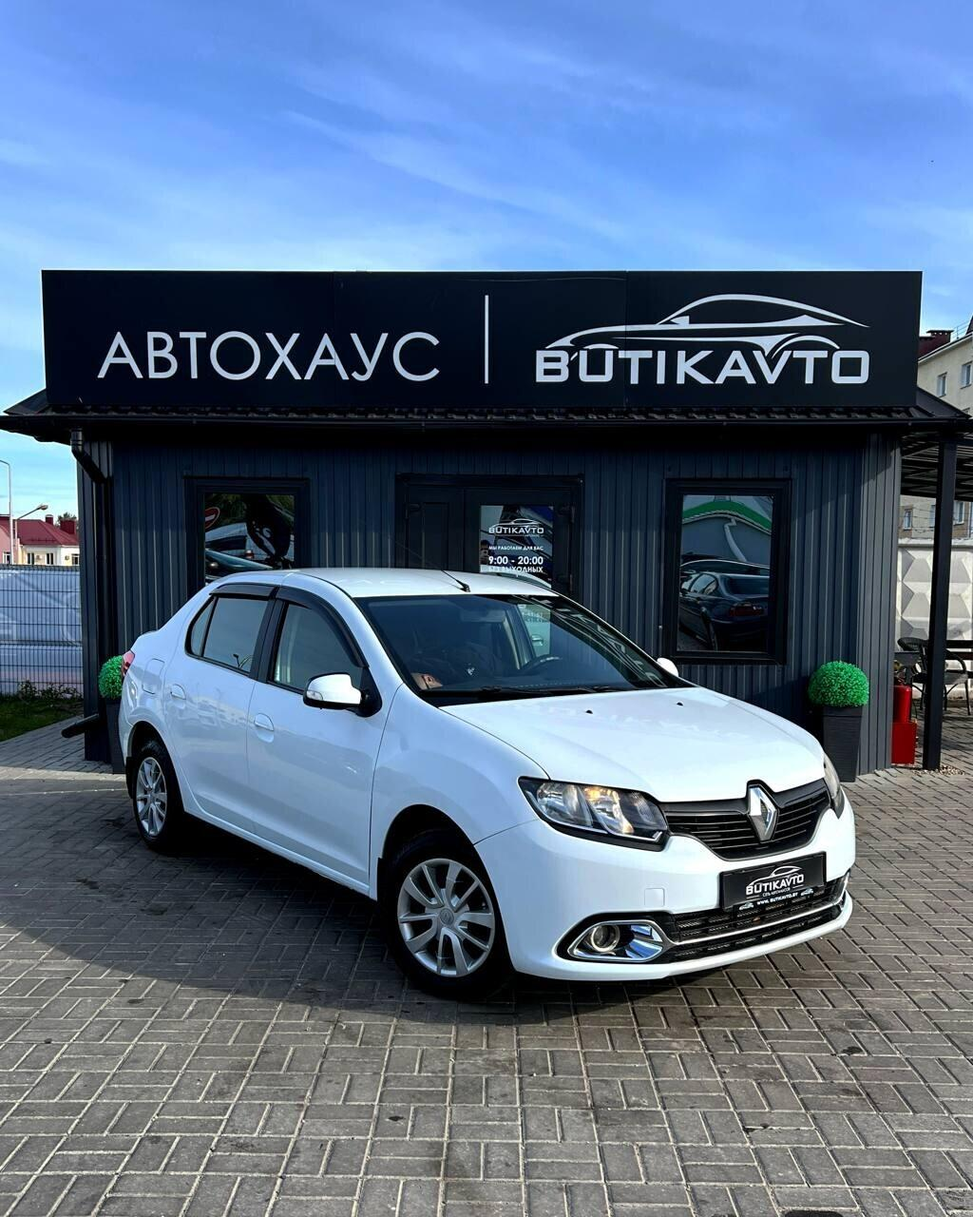Logan_2013-2018: (106, 556, 871, 994)
